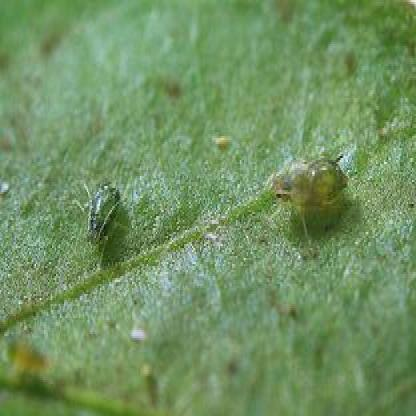aphid: (264, 148, 349, 234), (75, 170, 129, 256)
